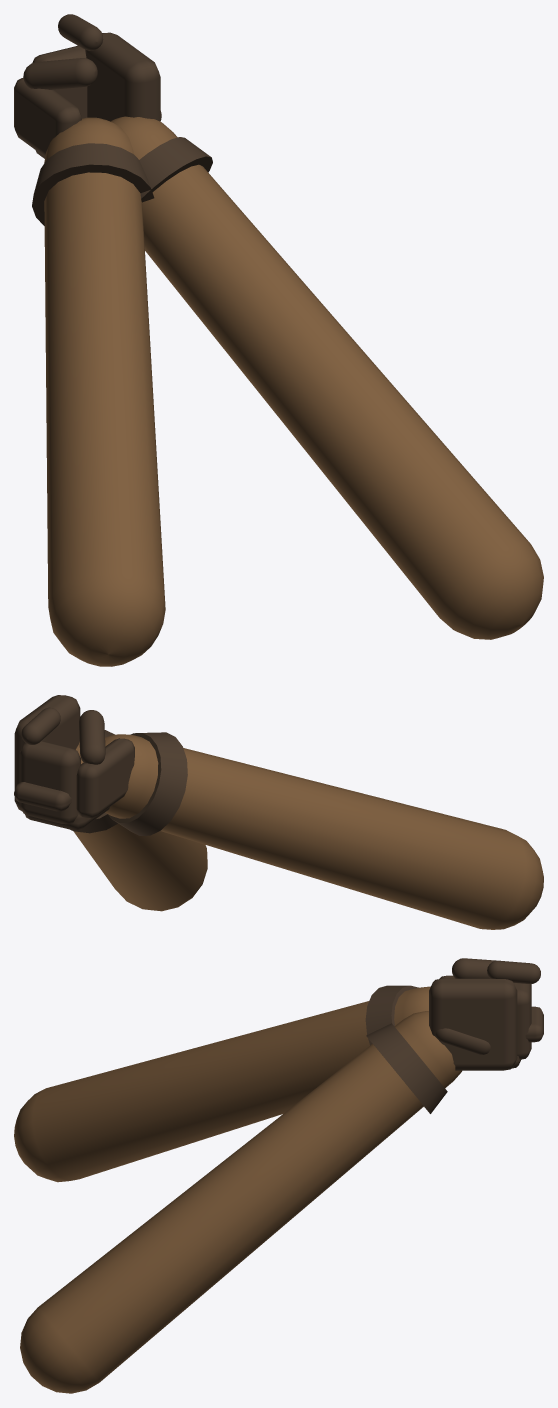
The model's file is quake.glb.
3 views of the same model, one above another, from view 1: azimuth 30°, elevation 25°; view 2: azimuth 150°, elevation 25°; view 3: azimuth 270°, elevation 25° (orthographic). The views are drawn at different scales.
Parts seen in each view (by area): view 1: forearm_R, forearm_L, palm_R, cuff_L, fingers_L, cuff_R, thumb_R, trigger_finger_R, fingers_R; view 2: forearm_L, forearm_R, cuff_L, fingers_R, fingers_L, palm_R, thumb_R, knuckles_R, trigger_finger_R, cuff_R, palm_L; view 3: forearm_R, forearm_L, palm_R, cuff_R, cuff_L, fingers_R, trigger_finger_R, thumb_L, thumb_R.
Boxes of the visible parts, box(x1,y1,x2,y2) form: forearm_R: box(110, 116, 543, 639); forearm_L: box(44, 117, 165, 666); palm_R: box(85, 32, 160, 121); cuff_L: box(32, 143, 154, 225); fingers_L: box(14, 78, 81, 156); cuff_R: box(139, 137, 212, 202); thumb_R: box(23, 58, 97, 89); trigger_finger_R: box(58, 14, 103, 50); fingers_R: box(32, 45, 87, 118); forearm_L: box(105, 734, 543, 929); forearm_R: box(73, 742, 207, 911); cuff_L: box(108, 732, 187, 835); fingers_R: box(19, 741, 80, 824); fingers_L: box(76, 738, 134, 818); palm_R: box(14, 695, 80, 811); thumb_R: box(79, 710, 105, 764); knuckles_R: box(14, 782, 71, 811); trigger_finger_R: box(21, 707, 60, 744); cuff_R: box(70, 730, 117, 833); palm_L: box(25, 807, 109, 829); forearm_R: box(20, 1011, 461, 1393); forearm_L: box(14, 986, 430, 1182); palm_R: box(429, 978, 517, 1070); cuff_R: box(366, 1023, 447, 1113); cuff_L: box(365, 985, 418, 1045); fingers_R: box(514, 983, 531, 1059); trigger_finger_R: box(487, 960, 540, 983); thumb_L: box(435, 1028, 490, 1054); thumb_R: box(452, 958, 495, 978).
Bounding box in the file's own units: 0.4161 × 0.3715 × 0.4788.
